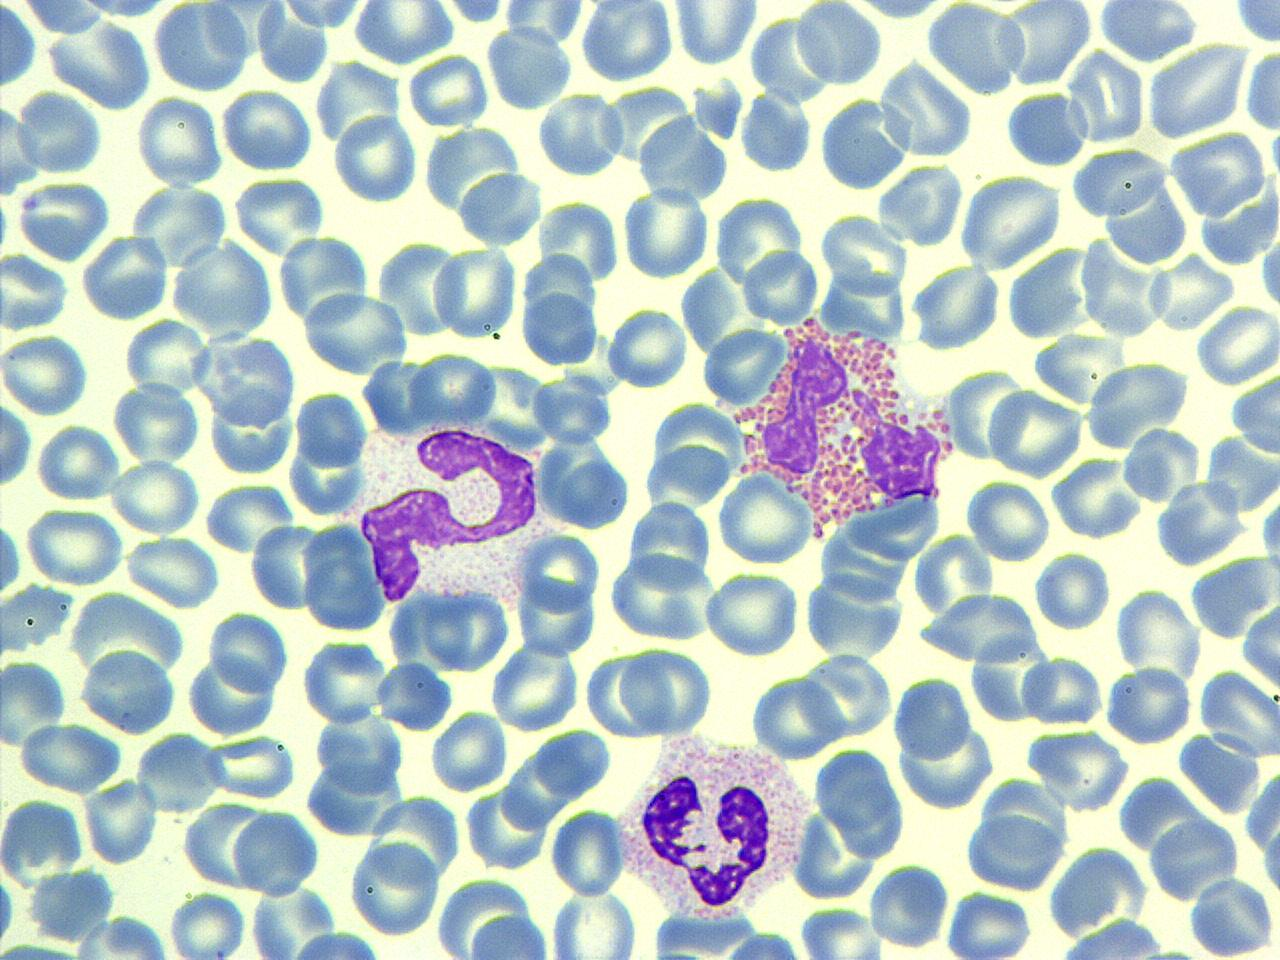Platelets: (0, 518, 24, 600), (0, 870, 18, 951), (0, 196, 13, 256)
RBC: (889, 673, 996, 809), (532, 430, 636, 535), (957, 171, 1066, 271), (608, 548, 720, 644), (1143, 38, 1249, 138), (44, 16, 154, 112), (878, 56, 974, 162), (713, 189, 807, 297), (300, 521, 389, 634), (347, 836, 442, 937), (716, 469, 814, 566), (1022, 728, 1132, 814), (152, 0, 250, 96), (303, 289, 409, 377), (798, 648, 895, 744), (911, 257, 1006, 355), (489, 634, 581, 735), (204, 383, 299, 480), (78, 648, 182, 736), (619, 643, 716, 736), (702, 568, 802, 658), (984, 385, 1079, 479), (876, 157, 966, 254), (622, 183, 711, 281), (231, 172, 330, 260), (1113, 584, 1203, 680), (184, 651, 284, 737), (134, 94, 225, 188), (750, 668, 840, 763), (431, 244, 520, 339), (482, 25, 580, 111), (22, 505, 126, 586), (15, 177, 115, 261), (228, 807, 322, 896), (219, 86, 314, 173), (1067, 48, 1149, 147), (960, 814, 1064, 892), (818, 209, 911, 296), (13, 90, 108, 175), (1067, 143, 1169, 222), (578, 2, 676, 84), (1052, 453, 1142, 542), (80, 232, 171, 320), (536, 87, 622, 180), (407, 346, 501, 431), (1199, 663, 1279, 762), (0, 330, 91, 417), (334, 110, 416, 206), (17, 720, 123, 793), (962, 476, 1051, 562), (603, 303, 690, 390), (122, 314, 210, 400), (794, 1, 882, 87), (301, 636, 387, 724), (1185, 876, 1275, 960), (868, 859, 950, 951), (107, 457, 203, 535), (519, 530, 603, 618), (1103, 664, 1193, 746), (123, 534, 219, 610), (203, 478, 296, 556), (454, 170, 544, 250), (550, 804, 626, 898), (1196, 301, 1278, 388), (292, 385, 370, 476), (83, 775, 160, 867), (34, 420, 120, 502), (208, 609, 290, 695), (1004, 88, 1090, 170), (738, 87, 817, 175), (516, 574, 598, 658), (0, 655, 71, 752), (406, 50, 492, 130), (352, 2, 457, 67), (545, 886, 637, 960), (1032, 548, 1112, 632), (1094, 0, 1204, 61), (254, 1, 332, 87), (430, 708, 508, 792), (250, 520, 321, 612), (942, 888, 1036, 957), (1022, 650, 1105, 728), (202, 734, 297, 802), (740, 246, 818, 324), (668, 2, 760, 68), (0, 249, 73, 332), (377, 658, 454, 735), (166, 890, 246, 959), (1228, 366, 1280, 464), (69, 914, 175, 959), (796, 903, 882, 958), (463, 910, 552, 959), (501, 1, 586, 50), (0, 2, 39, 92), (1243, 44, 1279, 136), (0, 395, 33, 492), (279, 0, 368, 31), (434, 0, 510, 27)
WBC: (616, 730, 808, 925), (789, 743, 910, 902), (413, 117, 553, 249), (889, 672, 994, 810), (304, 710, 410, 836), (532, 425, 638, 535), (296, 518, 396, 634), (20, 506, 133, 594), (962, 803, 1067, 896), (818, 89, 909, 196), (609, 556, 718, 645), (187, 642, 288, 738), (152, 0, 251, 95), (1047, 846, 1151, 934), (638, 908, 816, 959), (79, 646, 177, 738), (9, 89, 107, 179), (580, 1, 678, 84), (792, 2, 886, 87), (1188, 552, 1274, 644), (456, 164, 544, 250), (1040, 915, 1202, 959), (1094, 1, 1200, 64), (0, 248, 72, 334), (8, 0, 134, 34), (0, 2, 40, 94), (1259, 810, 1279, 910)
